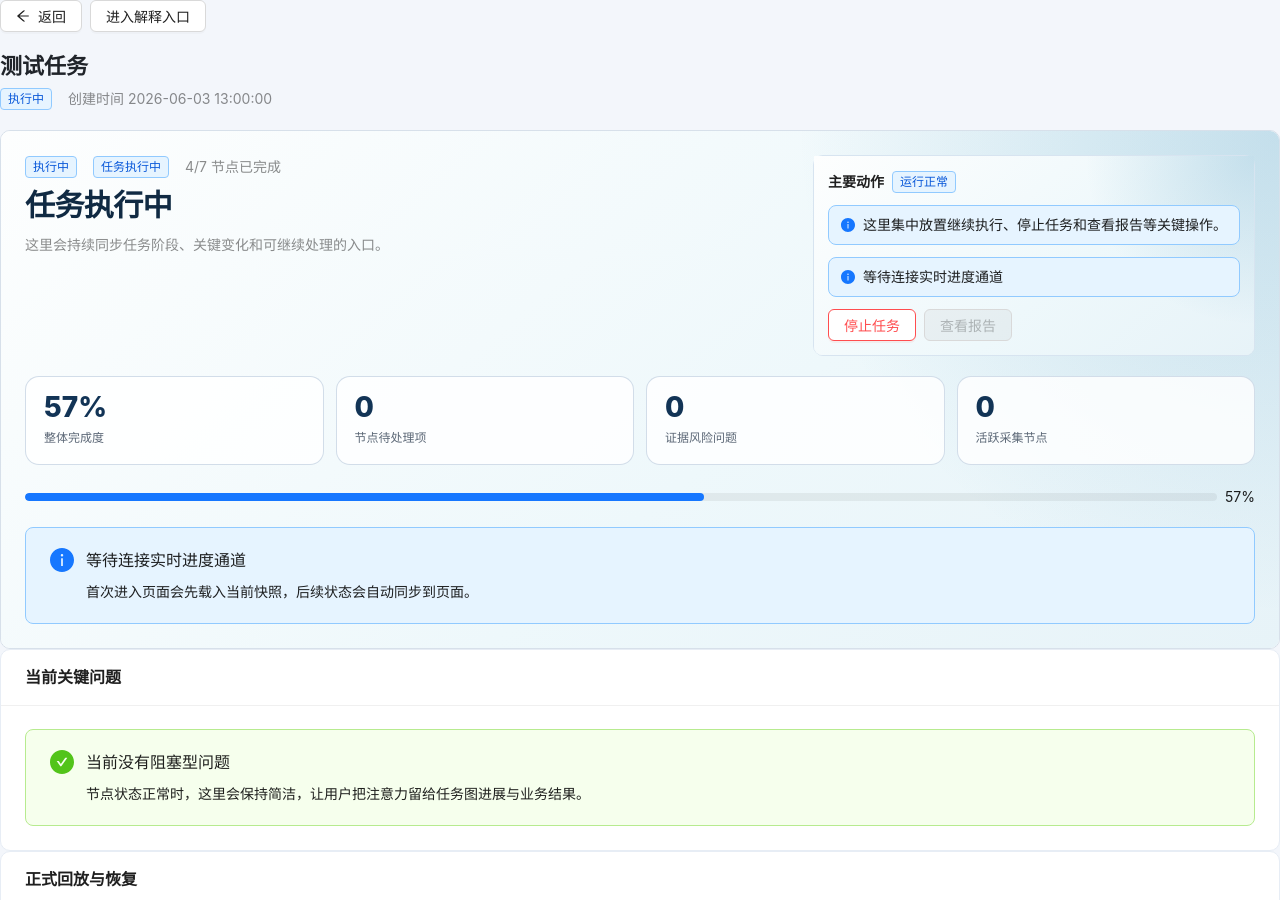
Test: TaskDetailPage runtime safety › opens the unified conversation entry with the current task context
Expected: the heading "测试任务" is shown, [0, 50, 88, 80]
Click the button "进入解释入口": coordinates (148, 16) [90, 0, 206, 32]
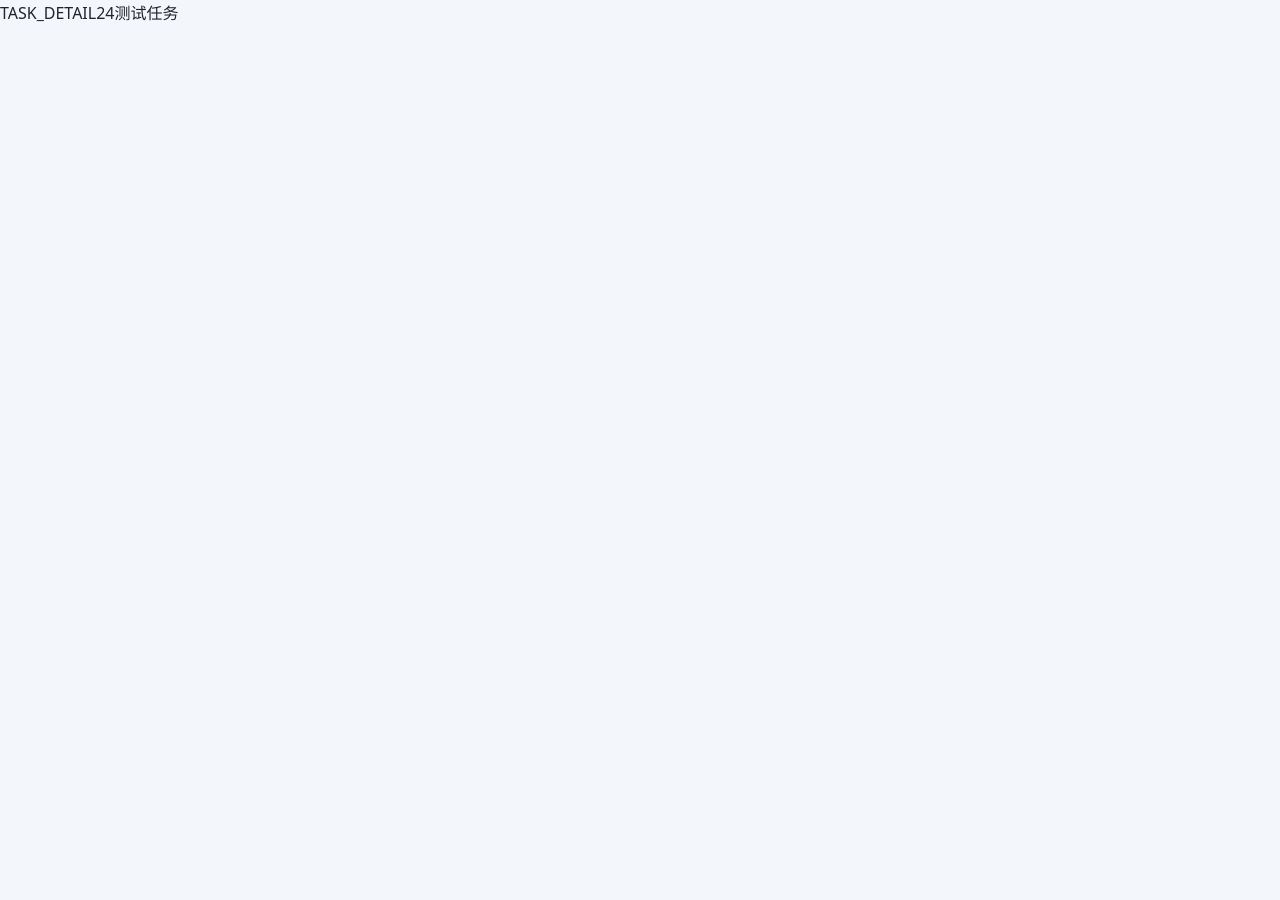
Expected: the text with test id "conversation-task-name" reads "测试任务", [114, 2, 178, 24]
Expected: the text with test id "conversation-page-type" reads "TASK_DETAIL", [0, 2, 96, 24]
Expected: the text with test id "conversation-task-id" reads "24", [96, 2, 114, 24]
